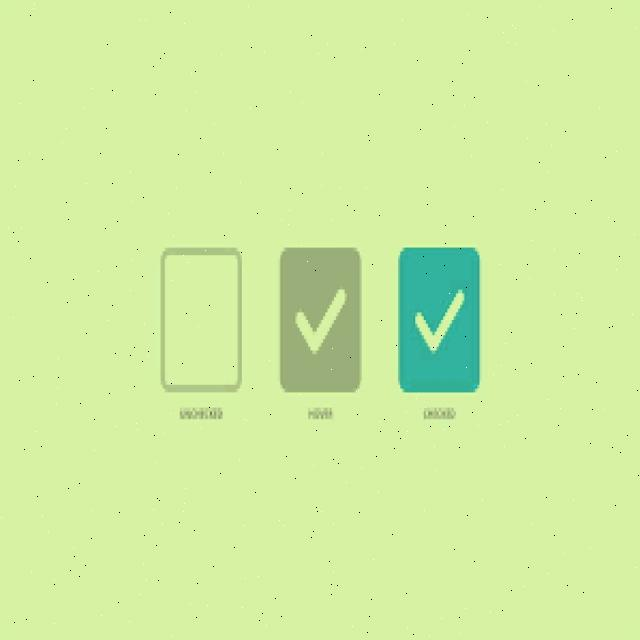checkbox: (279, 247, 362, 393), (398, 247, 480, 393), (160, 248, 242, 392)
